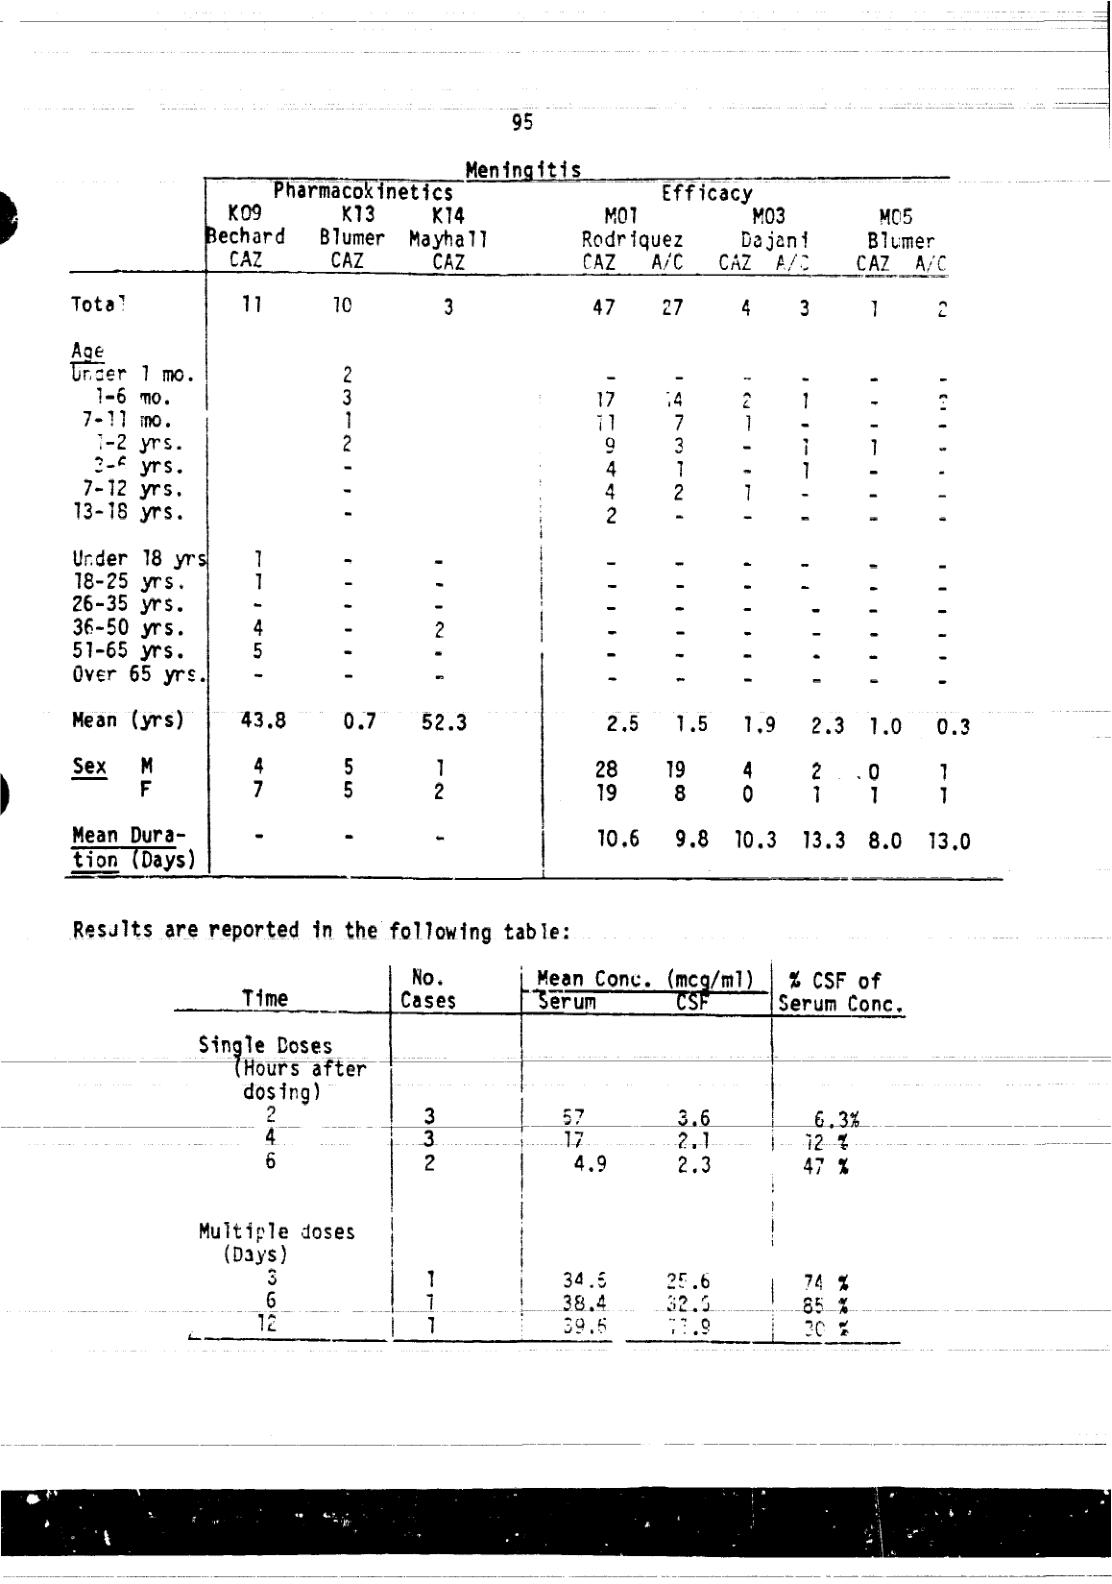partial_lined_merged_cells: (63, 177, 1004, 885), (164, 957, 917, 1350)
